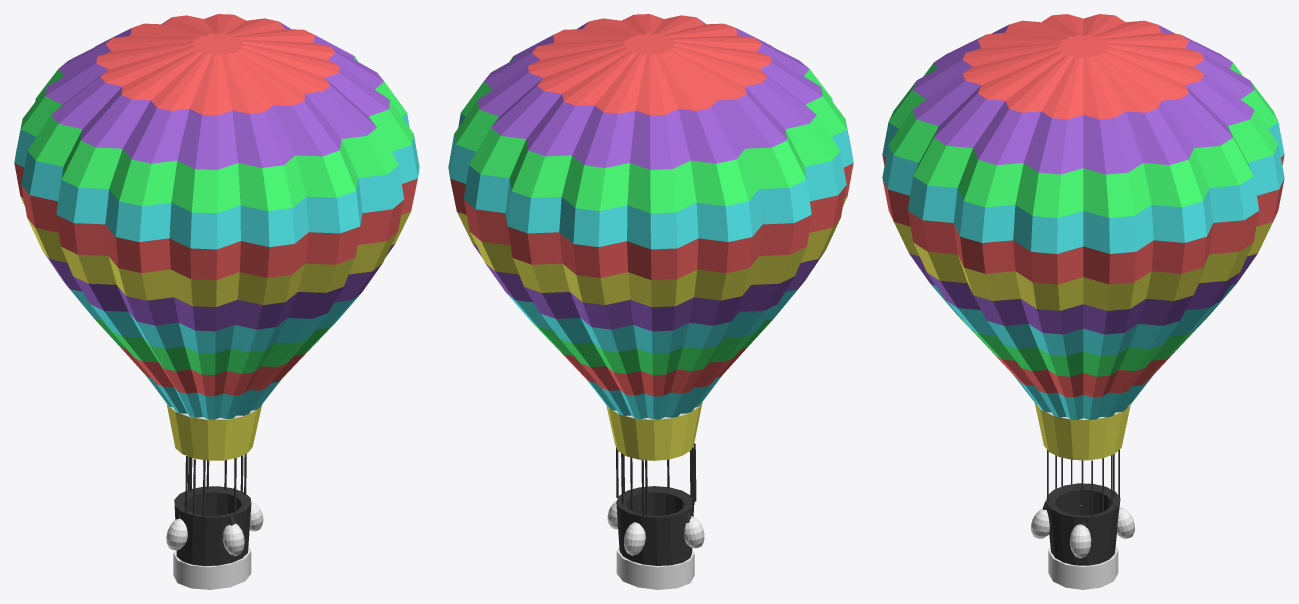
Rendered from balloon1.glb.
3 renders of one model, left to right at view 1: azimuth 30°, elevation 25°; view 2: azimuth 150°, elevation 25°; view 3: azimuth 270°, elevation 25°, orthographic.
Visible parts, largest first — view 1: Layer_ball011, Cylinder002, Sphere005, Sphere006; view 2: Layer_ball011, Cylinder002, Sphere008; view 3: Layer_ball011, Cylinder002, Sphere007.
Boxes of the visible parts, <box> form: Layer_ball011: <box>14,14,419,566</box>; Cylinder002: <box>173,546,251,589</box>; Sphere005: <box>222,523,244,555</box>; Sphere006: <box>166,518,187,550</box>; Layer_ball011: <box>448,14,853,565</box>; Cylinder002: <box>616,546,694,589</box>; Sphere008: <box>624,522,645,555</box>; Layer_ball011: <box>882,14,1284,565</box>; Cylinder002: <box>1048,545,1118,589</box>; Sphere007: <box>1069,524,1091,558</box>.
Bounding box in the file's own units: 487 × 708 × 487.
